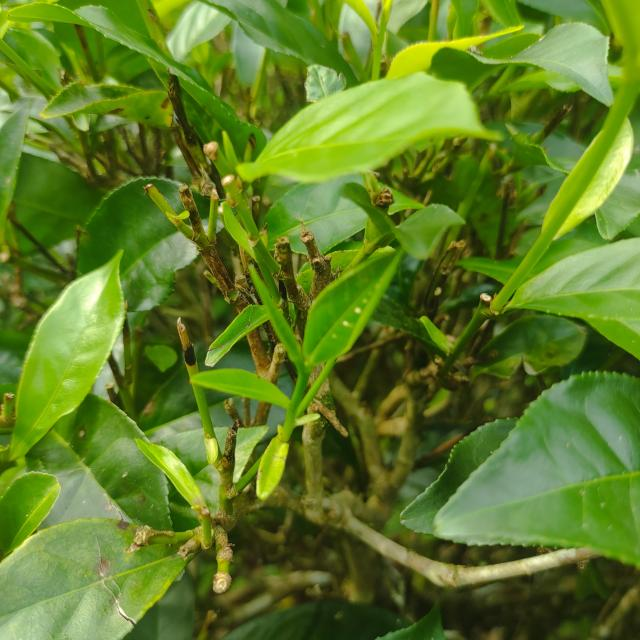unopened_leaf: (239, 258, 305, 370)
